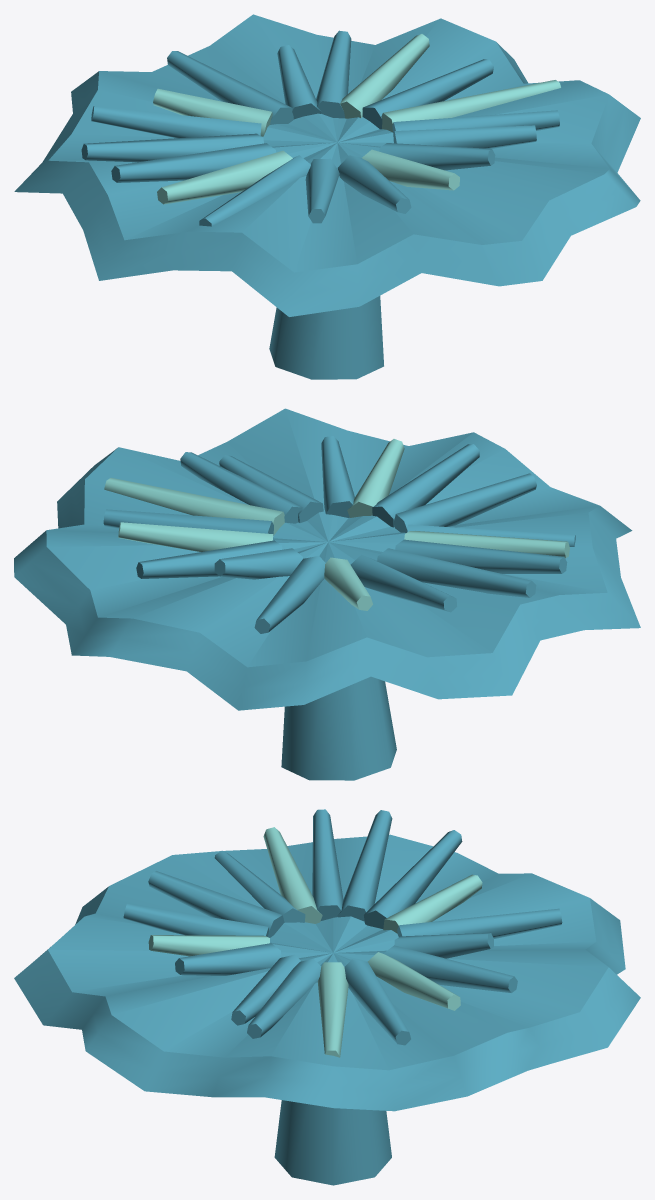
Rendered from coral-table.glb.
3 renders of one model, top to bottom at view 1: azimuth 30°, elevation 25°; view 2: azimuth 150°, elevation 25°; view 3: azimuth 270°, elevation 25°, orthographic.
Size of the model in its own units: 3.22 by 1.42 by 3.25.
